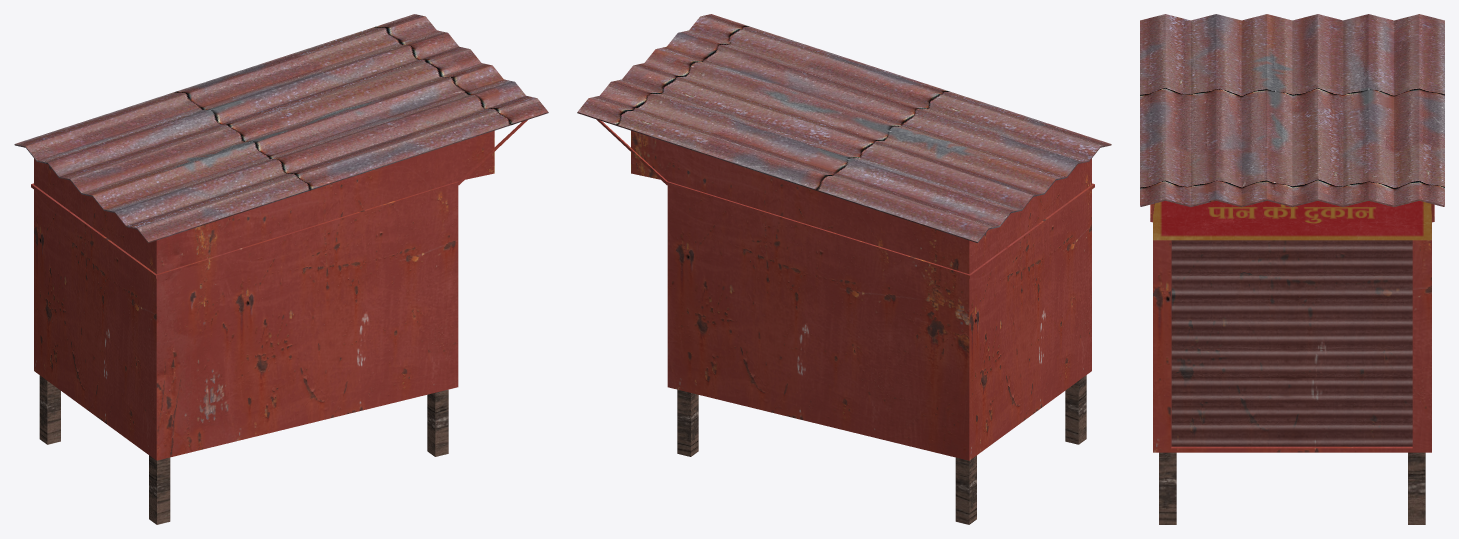
Rendered from mum_paan_shop.glb.
3 views of the same model, side by side, from view 1: azimuth 30°, elevation 25°; view 2: azimuth 150°, elevation 25°; view 3: azimuth 270°, elevation 25° (orthographic). The views are drawn at different scales.
Parts seen in each view (by area): view 1: Object_2; view 2: Object_2; view 3: Object_2.
Boxes of the visible parts, x1,y1,x2,y2 form: Object_2: (14, 14, 548, 524); Object_2: (577, 14, 1111, 524); Object_2: (1140, 14, 1444, 524).
Bounding box in the file's own units: 1048 × 828 × 607.
1 material, 1 textured.
